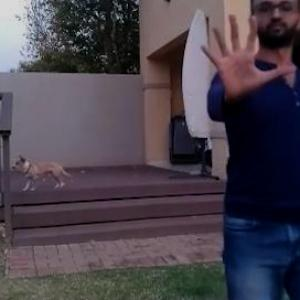follow_hand: (196, 8, 298, 106)
